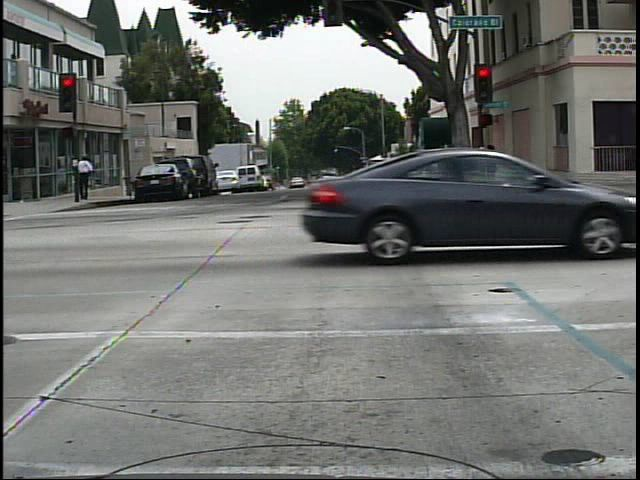person: (79, 148, 97, 200), (482, 139, 507, 165)
